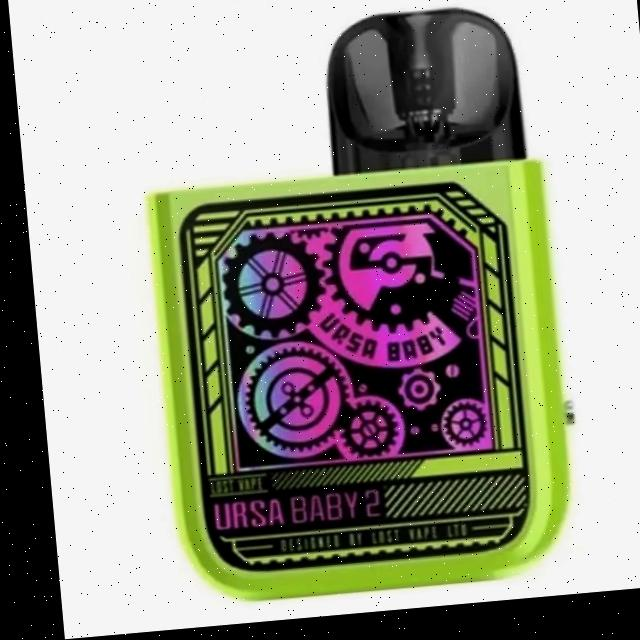vape: (132, 8, 566, 612)
